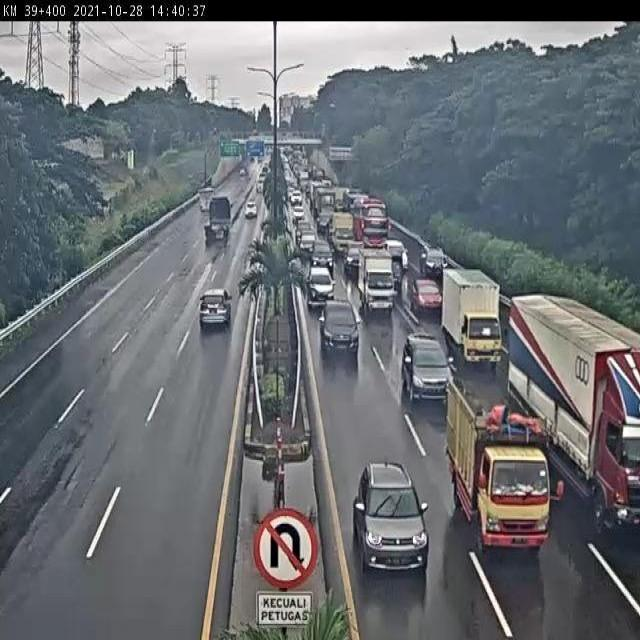big truck: (203, 196, 235, 249)
car: (355, 457, 428, 576), (400, 332, 451, 400), (319, 296, 358, 349), (199, 287, 228, 332), (308, 264, 336, 303), (412, 276, 442, 312), (385, 239, 411, 280)
truck-l-: (512, 293, 640, 523)
truck-m-: (448, 382, 553, 554), (443, 270, 502, 366)
truck-s-: (357, 249, 395, 312)
